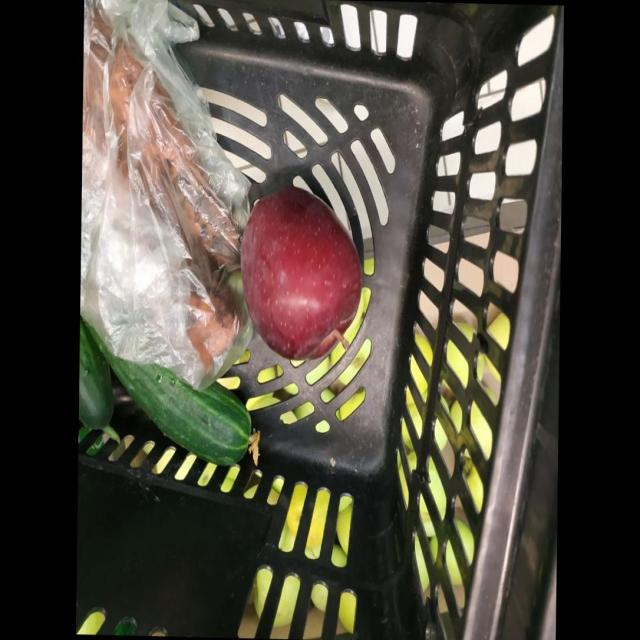Apple: (242, 186, 362, 359)
Cucumber: (82, 316, 251, 464), (79, 315, 114, 427)
